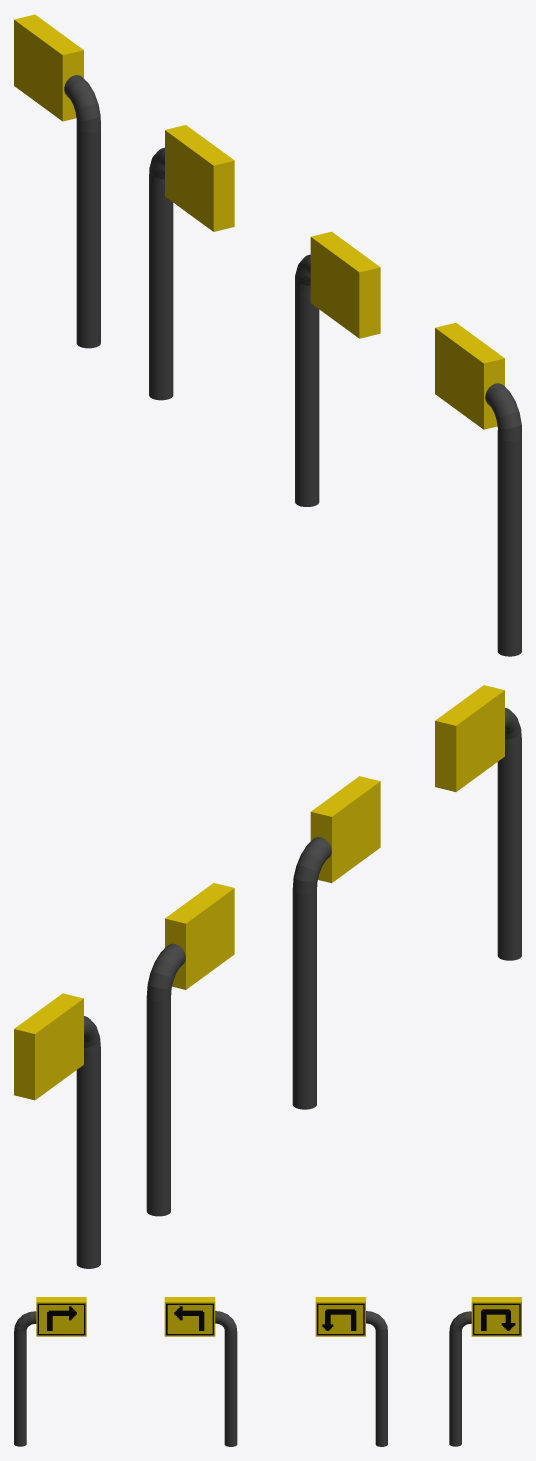
File: Signs.fbx
3 renders of one model, top to bottom at view 1: azimuth 30°, elevation 25°; view 2: azimuth 150°, elevation 25°; view 3: azimuth 270°, elevation 25°, orthographic. The views are drawn at different scales.
Parts seen in each view (by area): view 1: Sign (180), Sign (90), Sign (-90), Sign (-180); view 2: Sign (-90), Sign (-180), Sign (90), Sign (180); view 3: Sign (-90), Sign (-180), Sign (90), Sign (180).
Part boxes in pixels (x1,y1,x2,y2): Sign (180): (14, 14, 100, 348); Sign (90): (435, 322, 521, 656); Sign (-90): (295, 231, 380, 506); Sign (-180): (149, 125, 234, 400); Sign (-90): (292, 776, 380, 1109); Sign (-180): (146, 883, 234, 1216); Sign (90): (435, 685, 521, 960); Sign (180): (14, 993, 100, 1268); Sign (-90): (164, 1297, 237, 1446); Sign (-180): (315, 1297, 387, 1446); Sign (90): (14, 1297, 86, 1446); Sign (180): (449, 1297, 521, 1446).
Size of the model in its own units: 211 by 2526 by 8056.
